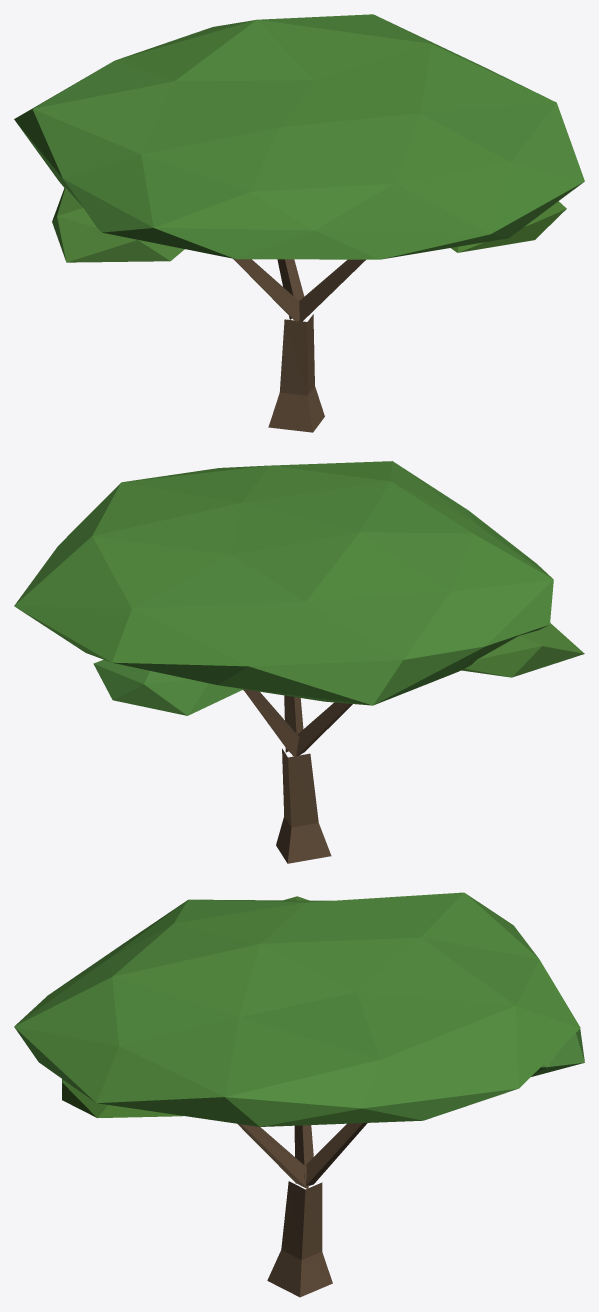
Rendered from umbrella_a_lod1.glb.
3 renders of one model, top to bottom at view 1: azimuth 30°, elevation 25°; view 2: azimuth 150°, elevation 25°; view 3: azimuth 270°, elevation 25°, orthographic. The views are drawn at different scales.
Visible parts, largest first — view 1: umbrella; view 2: umbrella; view 3: umbrella.
Boxes of the visible parts, x1,y1,x2,y2 form: umbrella: [14, 14, 584, 432]; umbrella: [14, 461, 584, 863]; umbrella: [14, 892, 584, 1297].
Bounding box in the file's own units: 15.42 × 9.7 × 15.61.
